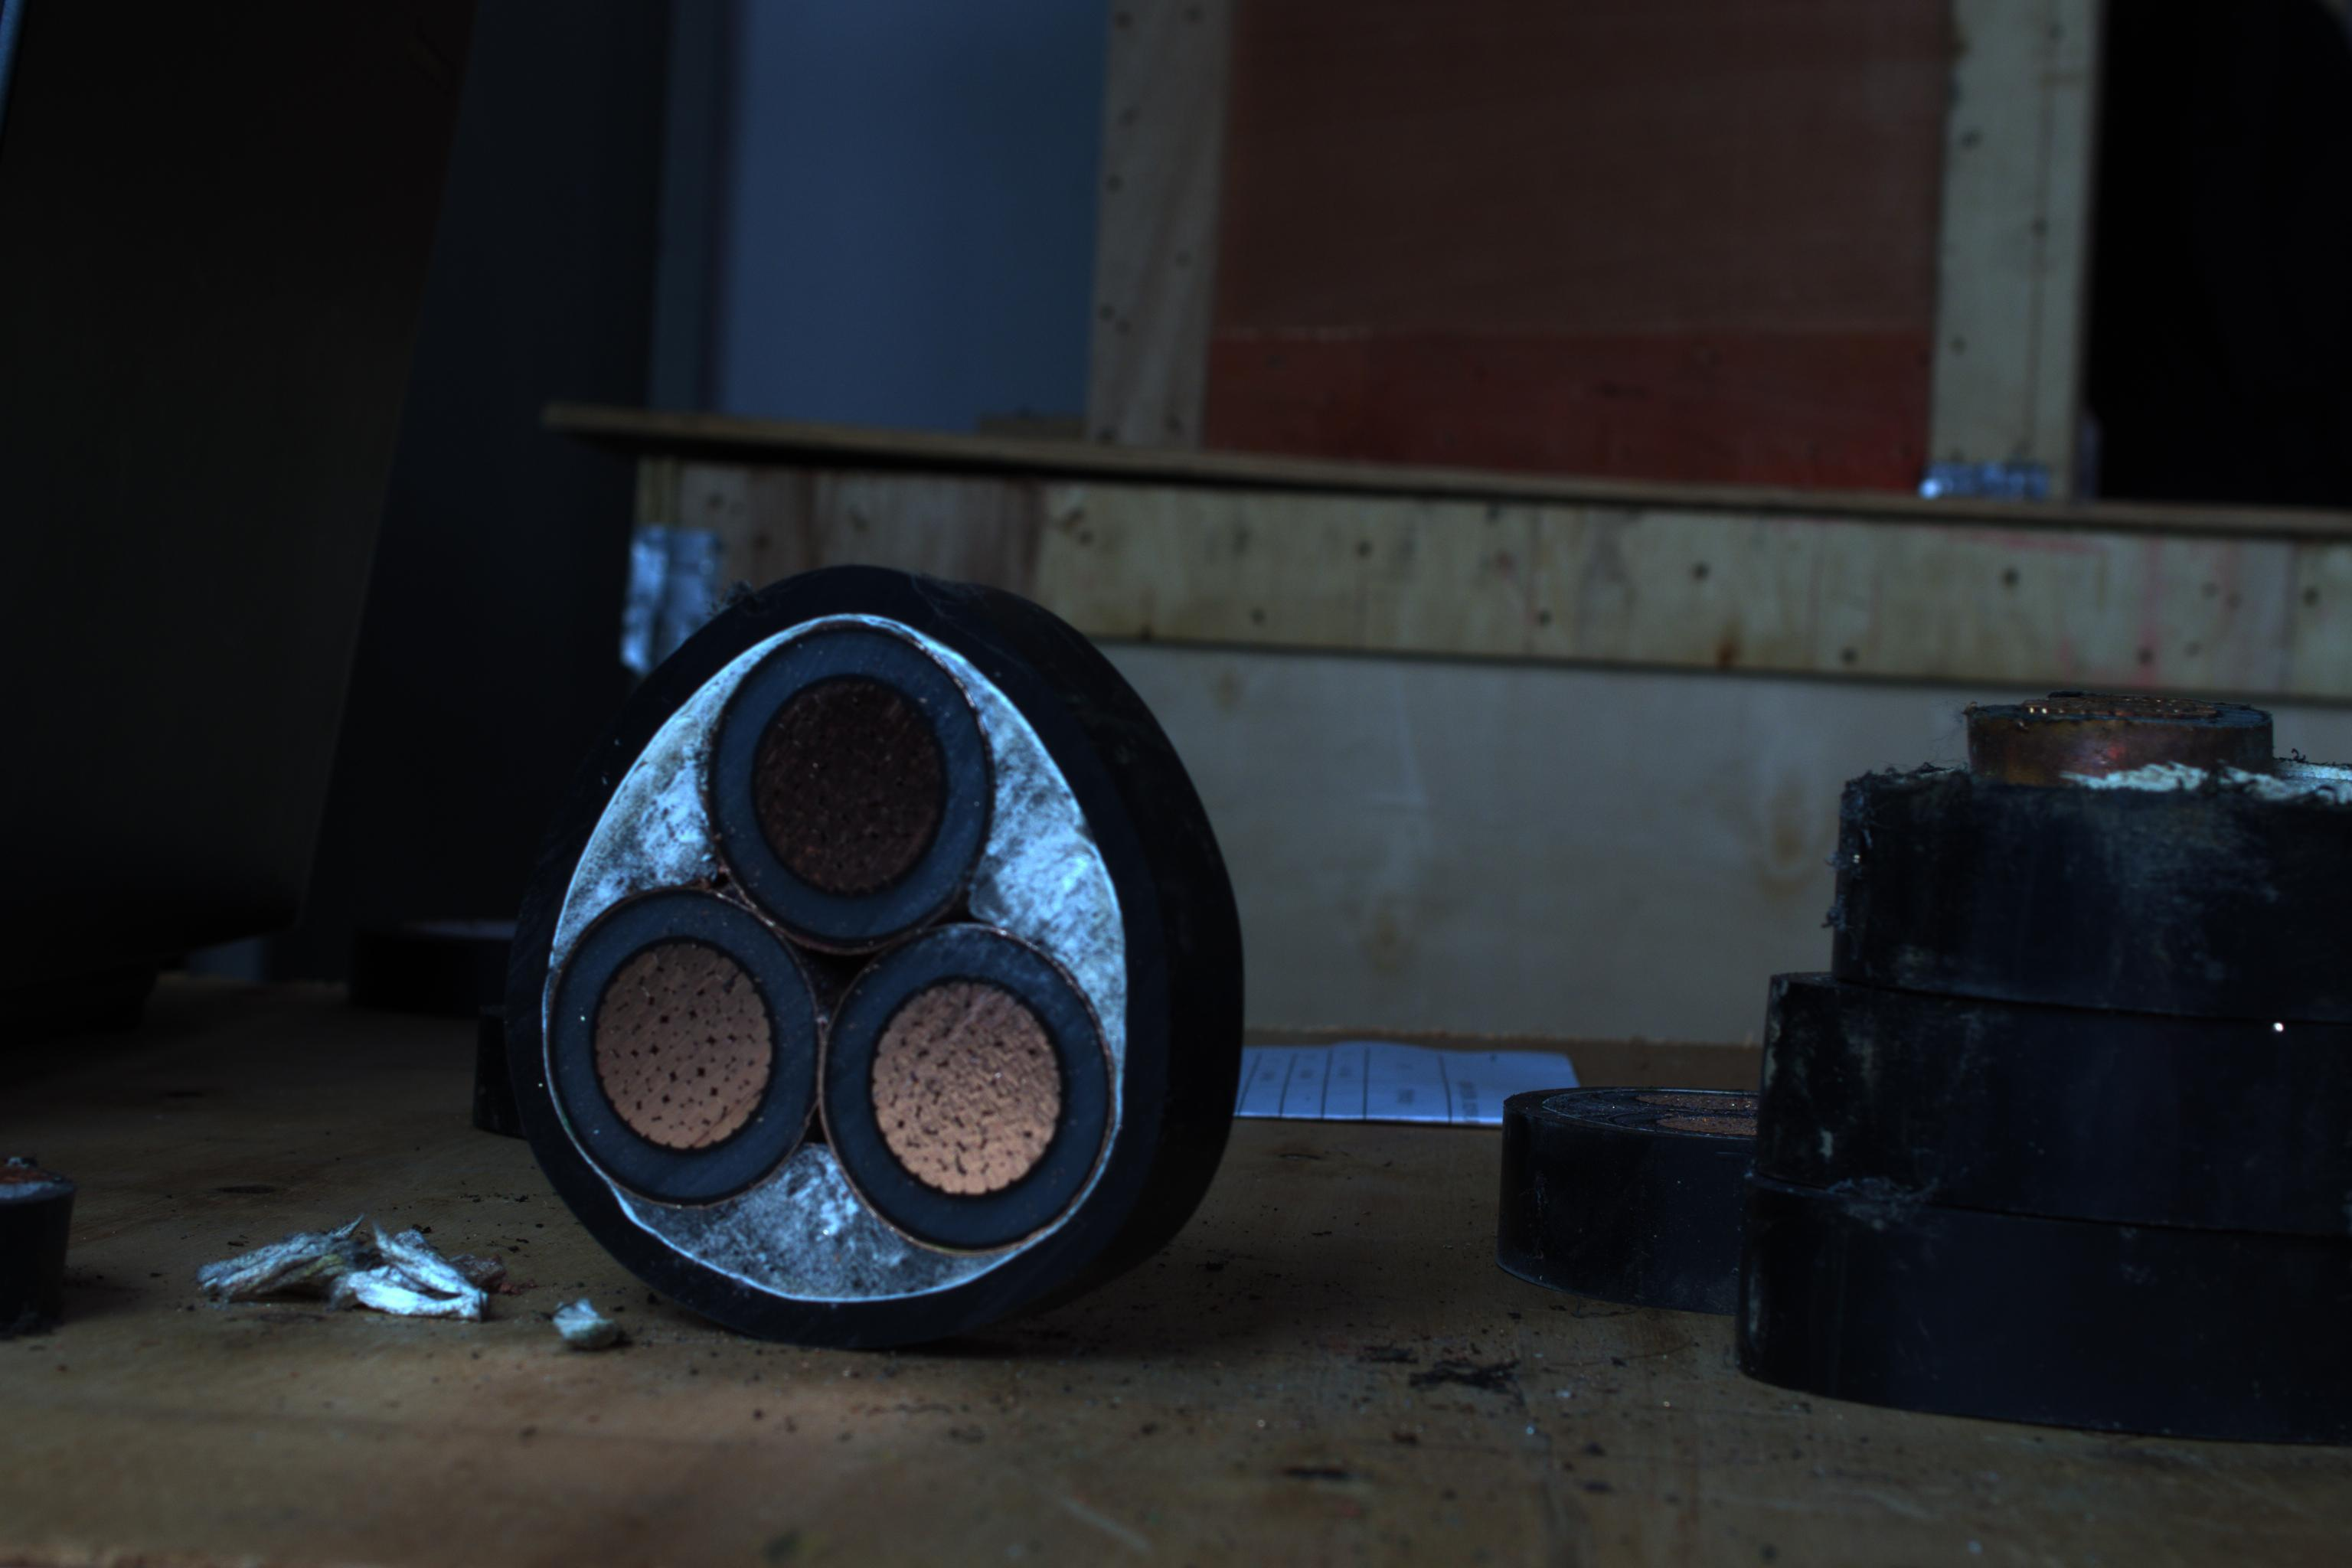ZA_YJV_8.7_10kV_3x400: (520, 612, 1129, 1326)
